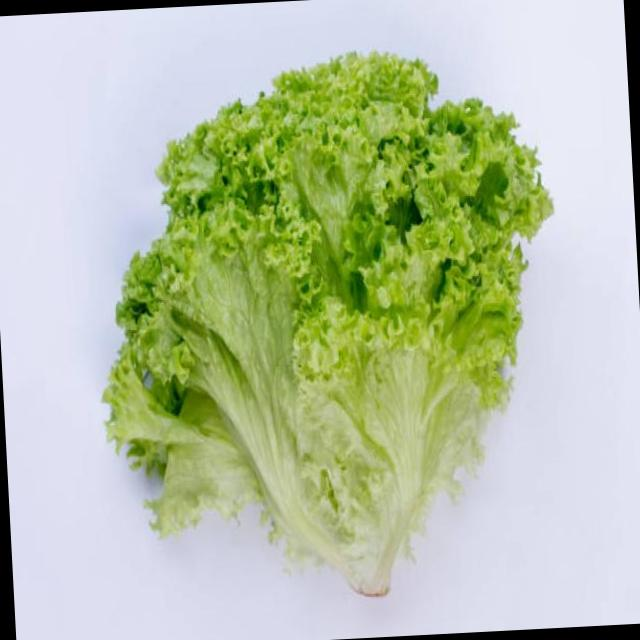Lettuce-Ready-to-Harvest: (99, 52, 555, 600)
